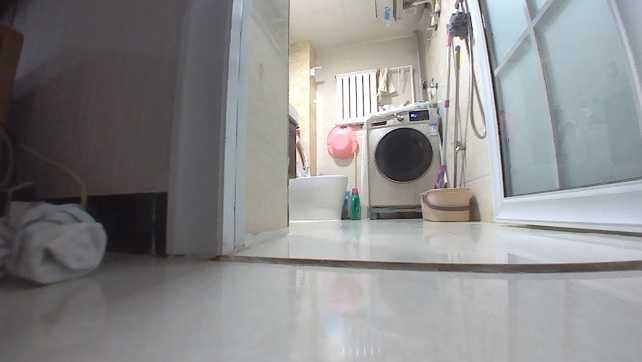door_anno: (470, 1, 639, 234)
door_sill: (214, 255, 642, 276)
toilet: (289, 136, 347, 220)
washing_machine: (360, 105, 446, 218)
